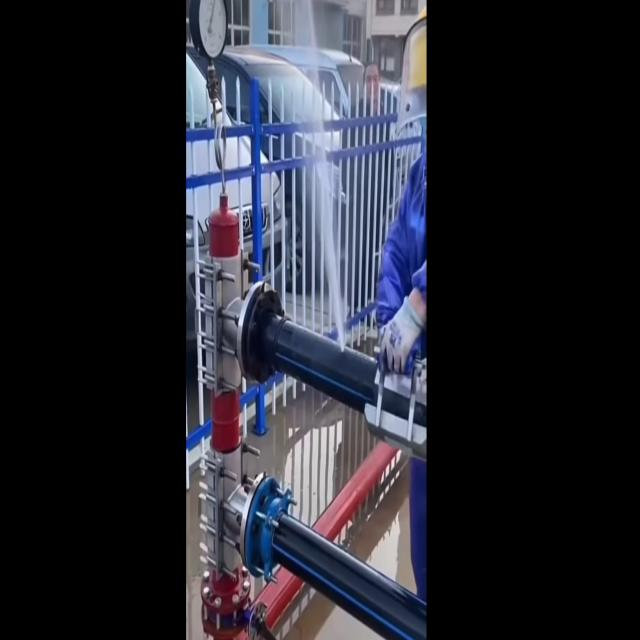leak: (316, 151, 345, 347)
